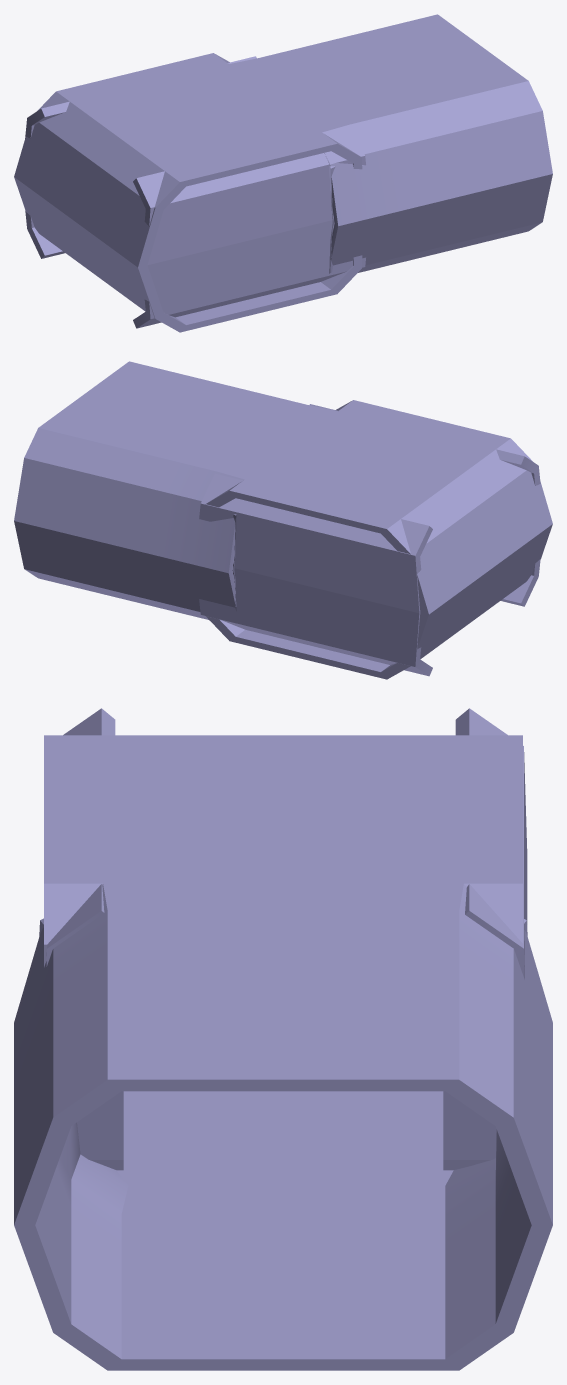
File: corridor_end_main.fbx
The picture shows the model from 3 angles, top to bottom: view 1: azimuth 30°, elevation 25°; view 2: azimuth 150°, elevation 25°; view 3: azimuth 270°, elevation 25°; orthographic projection. The views are drawn at different scales.
Visible parts, largest first — view 1: base_corridor_end_main2; view 2: base_corridor_end_main2; view 3: base_corridor_end_main2.
Boxes of the visible parts, bbox=[...] form: base_corridor_end_main2: bbox=[14, 14, 552, 332]; base_corridor_end_main2: bbox=[14, 361, 552, 679]; base_corridor_end_main2: bbox=[14, 708, 552, 1370].
Size of the model in its own units: 84.67 by 29.9 by 50.2.
